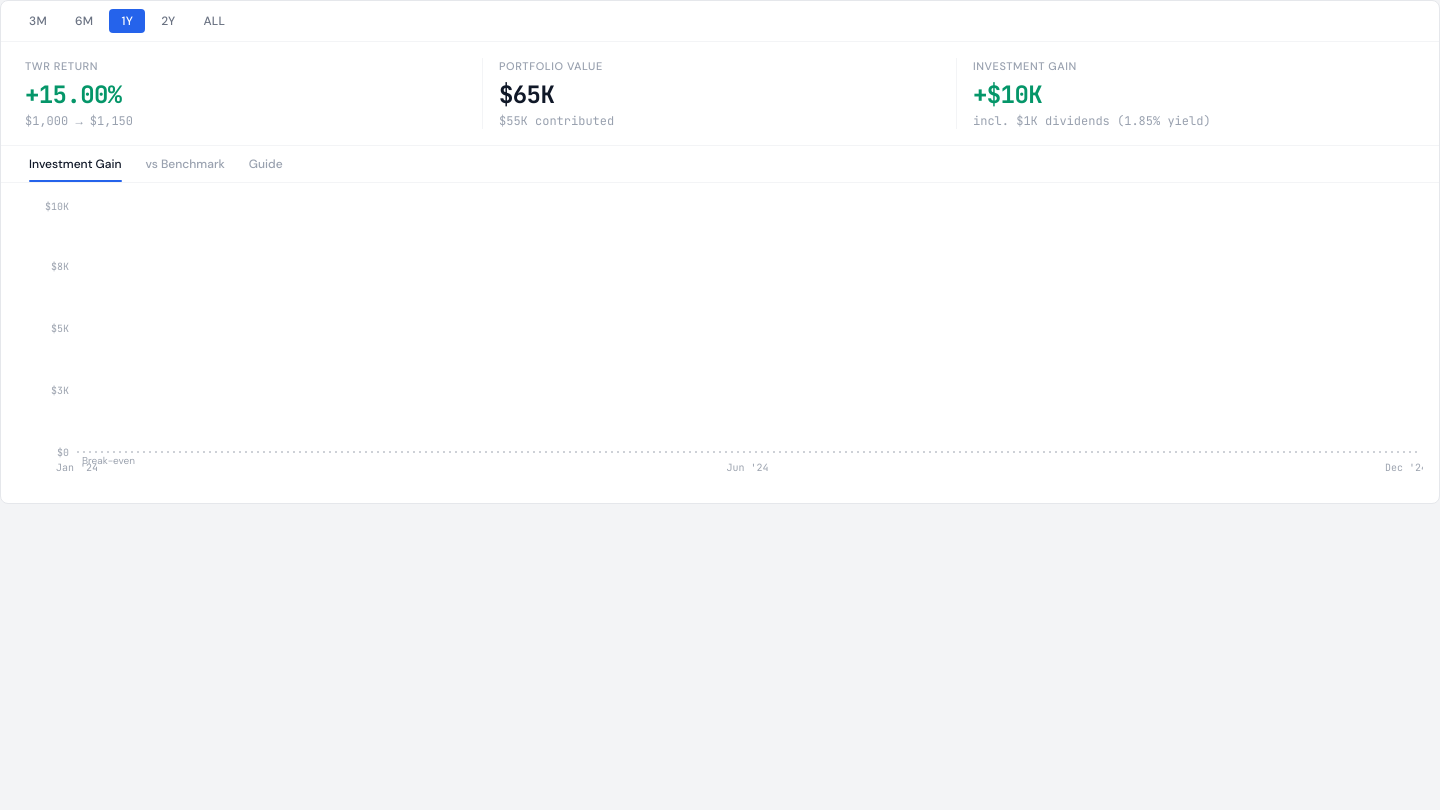
Test case: PerformanceChart › benchmark overlay › shows index dropdown options when benchmark tab is opened
Click the tab "vs Benchmark".
click(185, 164)  # box [134,146,237,182]
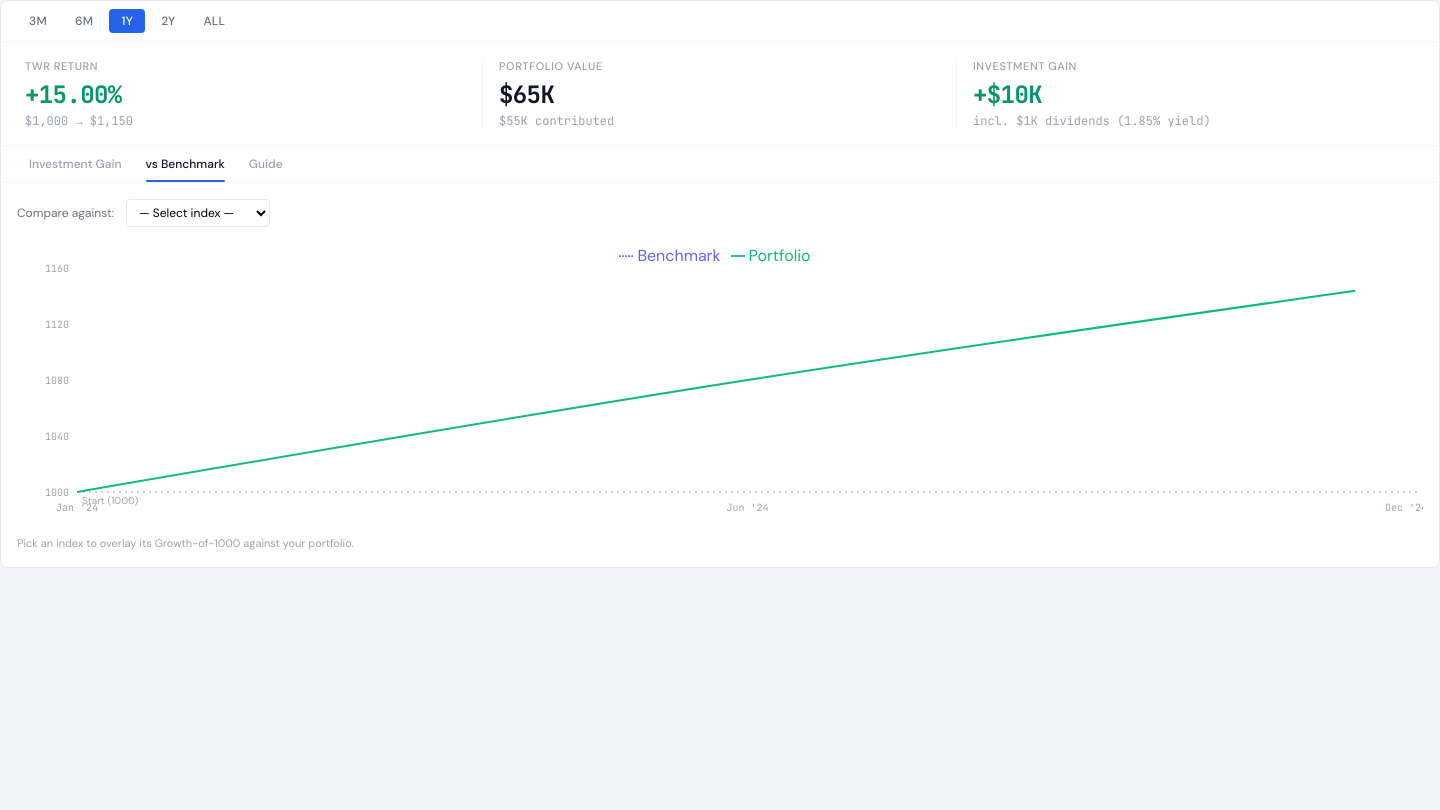
Result: the dropdown labelled "Compare against:" is shown at [126,198,270,226]
